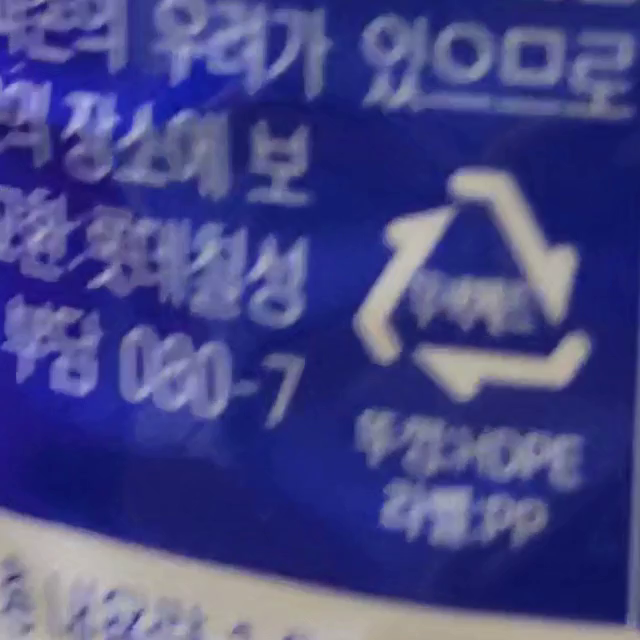ColorlessPet: (350, 168, 589, 403)
